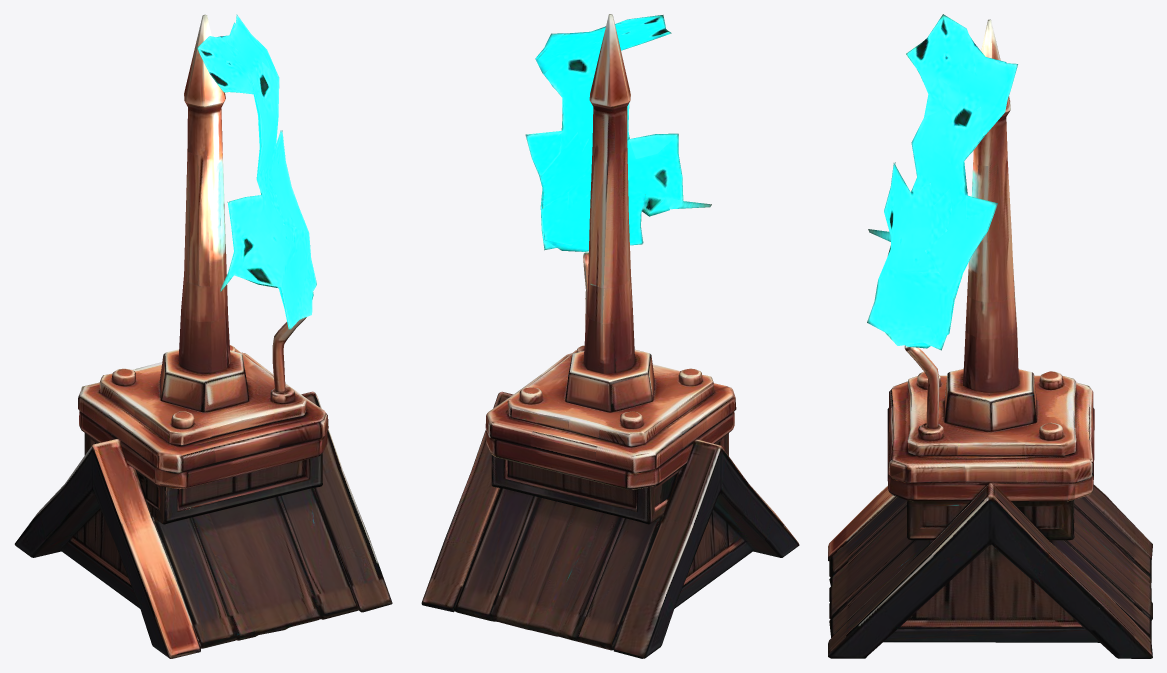
Rendered from lightning_rod.glb.
The picture shows the model from 3 angles, left to right: view 1: azimuth 30°, elevation 25°; view 2: azimuth 150°, elevation 25°; view 3: azimuth 270°, elevation 25°; orthographic projection. The views are drawn at different scales.
Bounding box in the file's own units: 0.4189 × 1 × 0.5059.
Materials: 1 (1 with a texture image).
